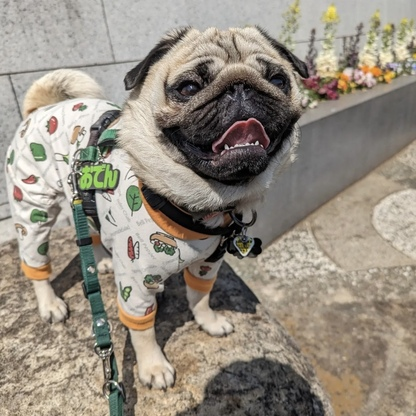Pug: (2, 19, 323, 398)
